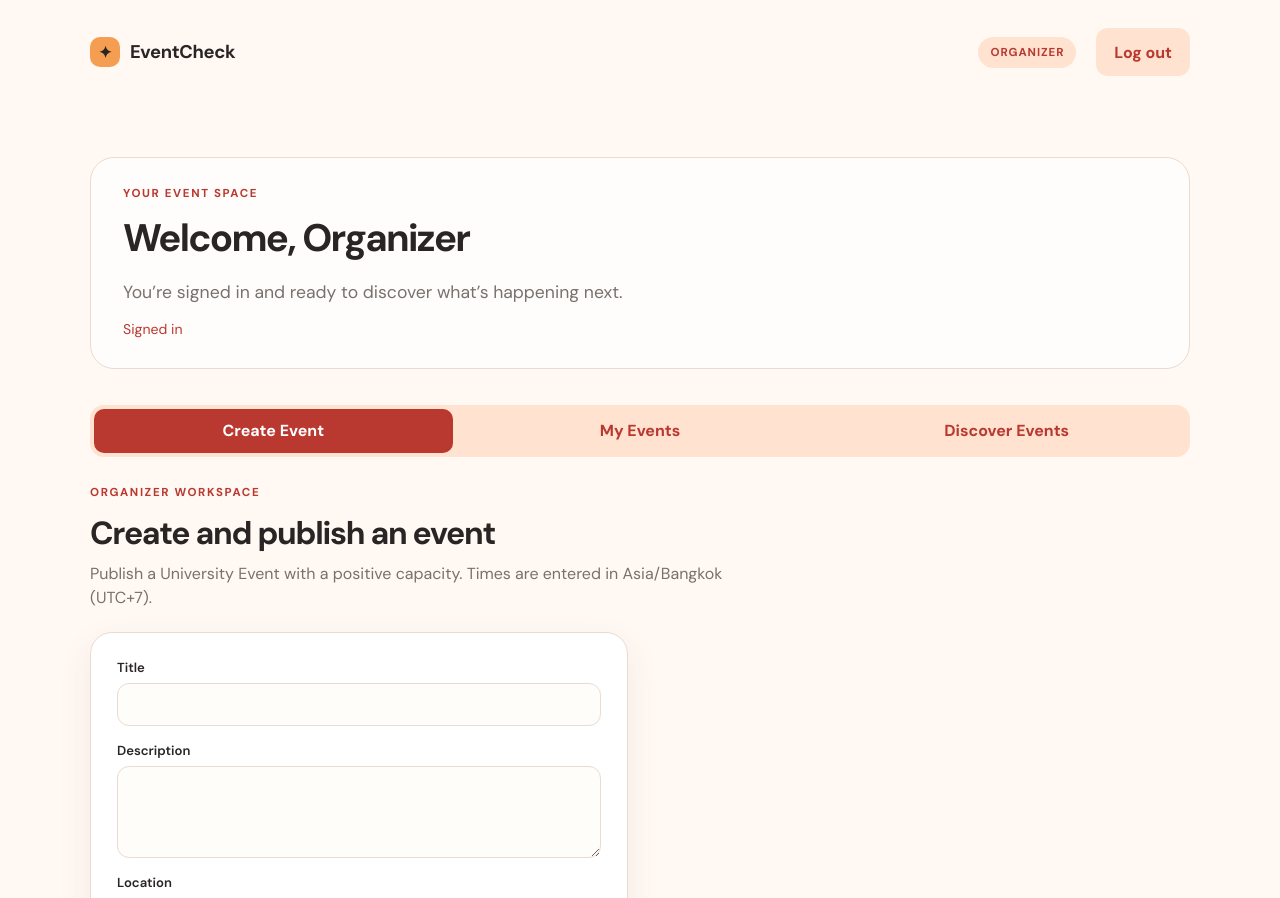
Test: F-03 participant discovery UI › does not show Register controls to an Organizer
This screenshot has width=1280, height=898.
Click the tab "Discover Events" at [1007, 431], box [827,409,1186,453]
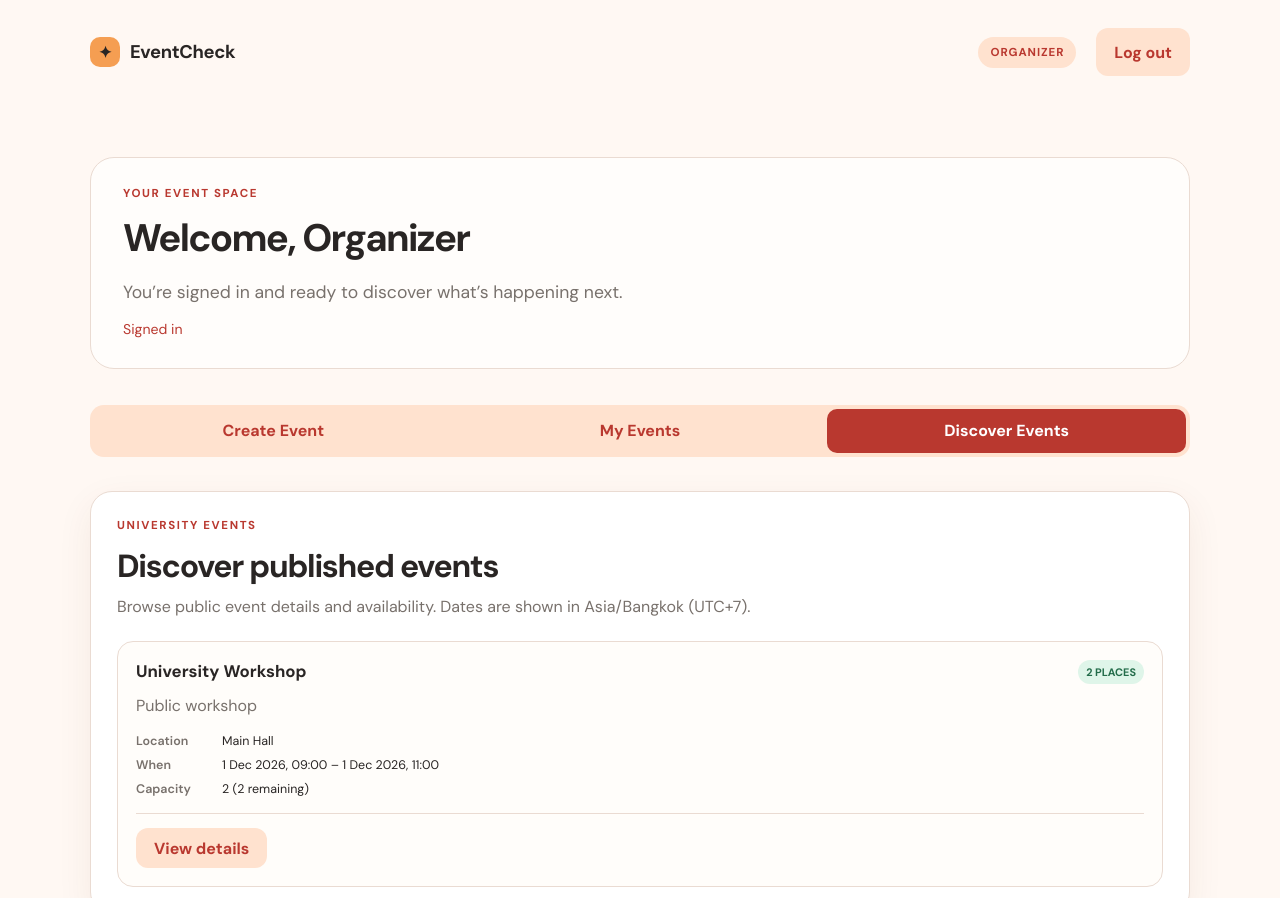
Now the heading "University Workshop" is shown, box [136,660,306,682]
